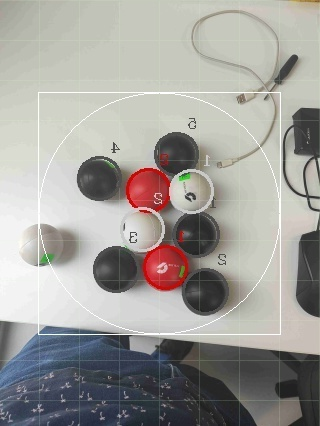Pelota blanca: (191, 9, 284, 94), (194, 89, 278, 168), (282, 105, 320, 211), (93, 244, 140, 294), (119, 206, 167, 254), (170, 166, 217, 214), (18, 222, 65, 267)
Pelota negra: (181, 268, 230, 318), (93, 244, 140, 294), (173, 212, 222, 259), (154, 129, 201, 176), (77, 156, 124, 200)
Pelota roja: (143, 244, 191, 291), (125, 166, 172, 211)
